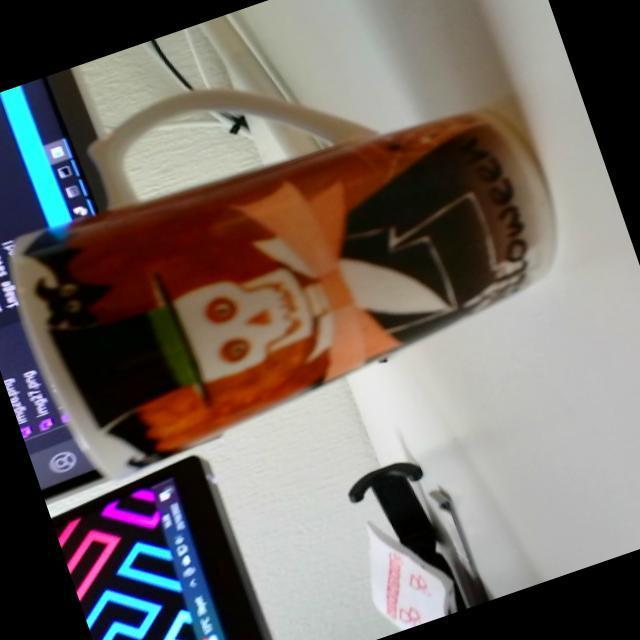cup: (0, 0, 597, 496)
